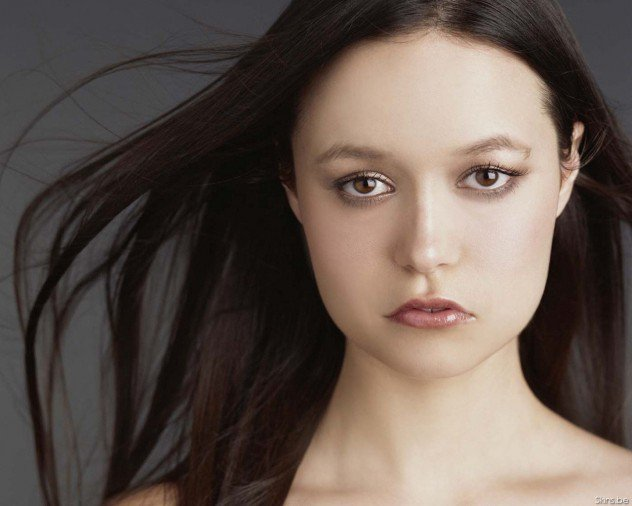sad: (277, 42, 565, 385)
